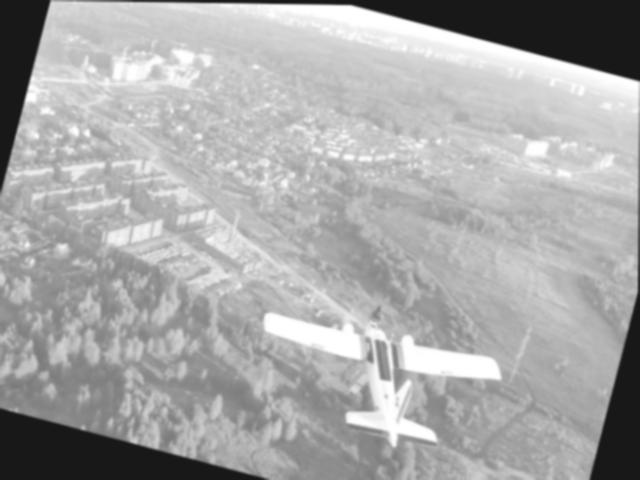hedef: (228, 271, 523, 471)
